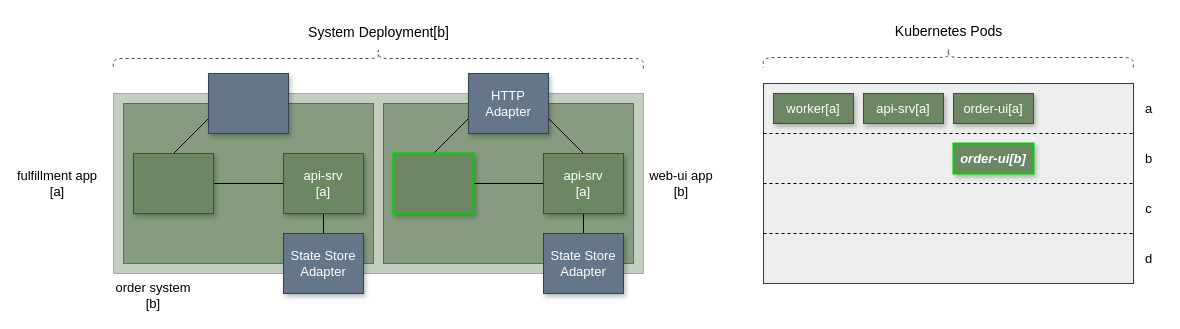
The diagram is 1180 pixels wide and 329 high, and some of its shapes have lost their labels. Here are the shapes that lost their labels. From the top down, the centre of each, then its label:
At [249,104]: "CRON Adapter".
At [174,184]: "worker [a]".
At [434,184]: "order-ui [b]".
